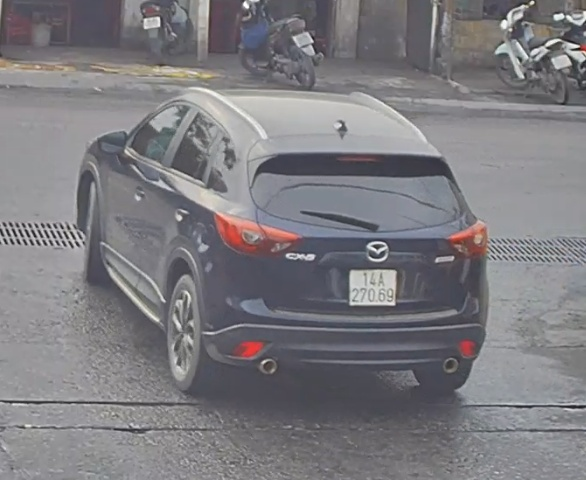vehicle plate: (344, 265, 402, 310)
